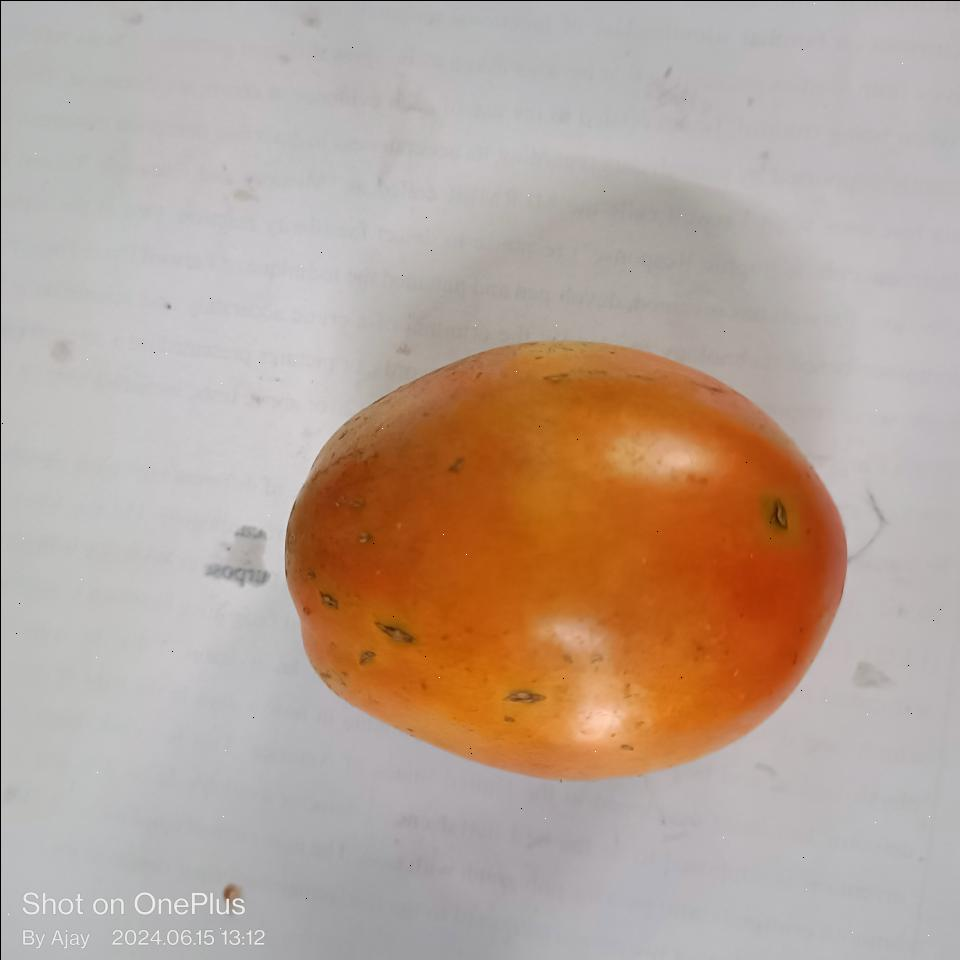Bacterial_Spot: (502, 679, 554, 711), (372, 616, 415, 648), (768, 493, 796, 537), (321, 586, 345, 615)
